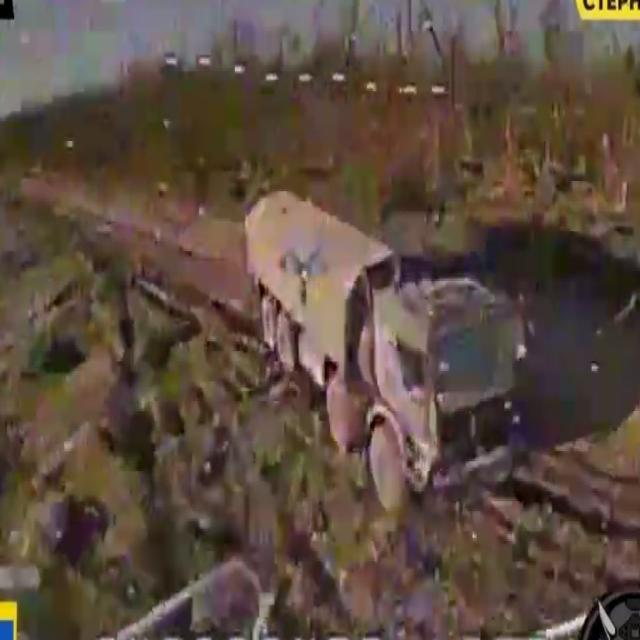TRUCK: (238, 185, 518, 516)
